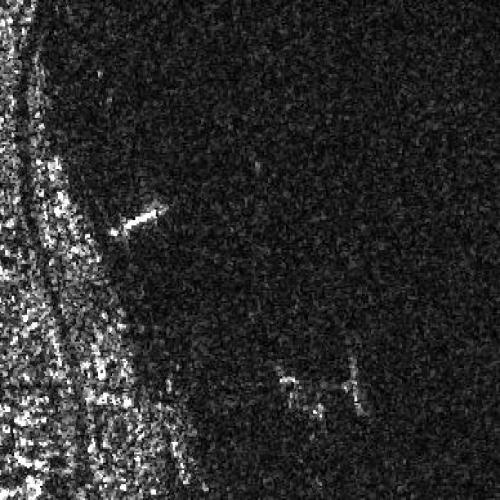ship: (107, 201, 172, 237)
